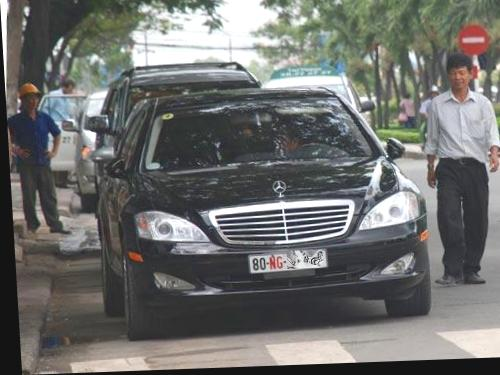License_Plate: (247, 247, 332, 275)
